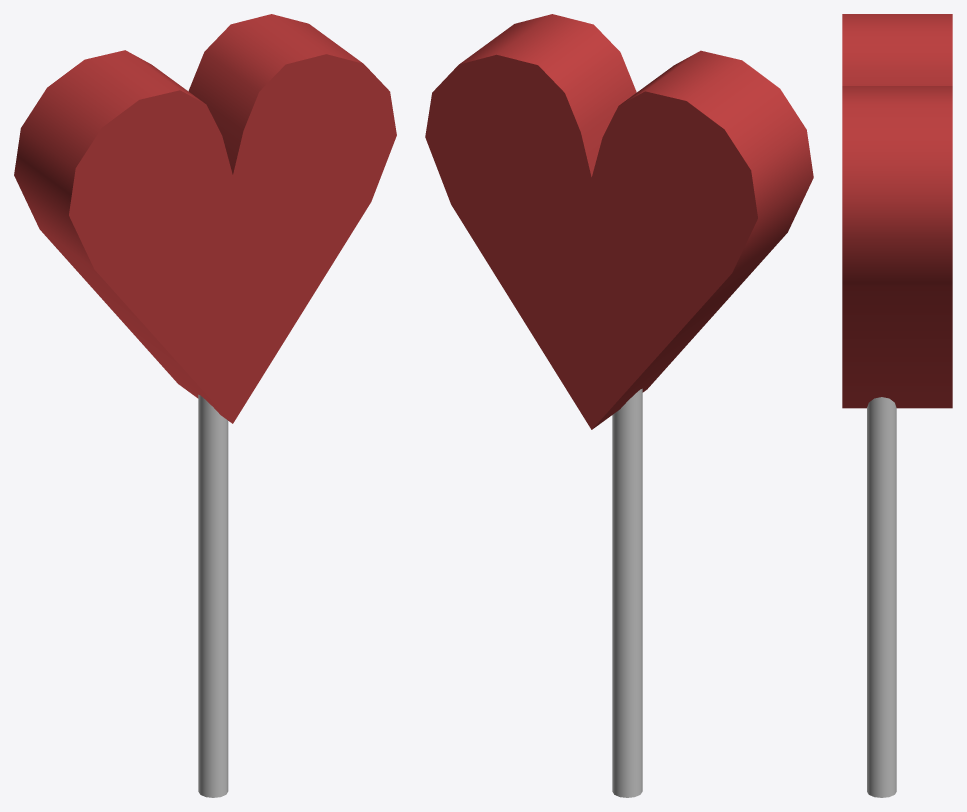
The model's file is 3D_LollyPop_Heart.FBX.
3 views of the same model, side by side, from view 1: azimuth 30°, elevation 25°; view 2: azimuth 150°, elevation 25°; view 3: azimuth 270°, elevation 25° (orthographic).
Parts seen in each view (by area): view 1: 3D_LolyPop_Heart; view 2: 3D_LolyPop_Heart; view 3: 3D_LolyPop_Heart.
Part boxes in pixels (x1=…): 3D_LolyPop_Heart: x1=14, y1=14, x2=396, y2=797; 3D_LolyPop_Heart: x1=425, y1=14, x2=813, y2=797; 3D_LolyPop_Heart: x1=842, y1=14, x2=952, y2=797.
Size of the model in its own units: 31.13 by 66.09 by 9.01.
